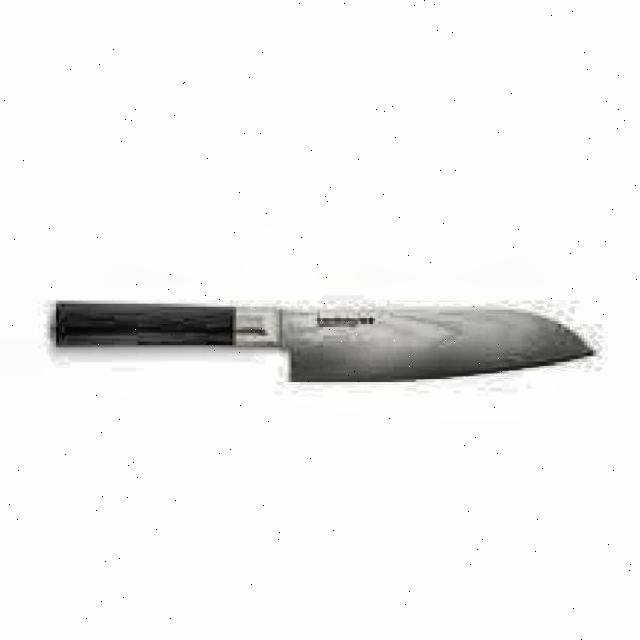knife: (49, 284, 608, 386)
